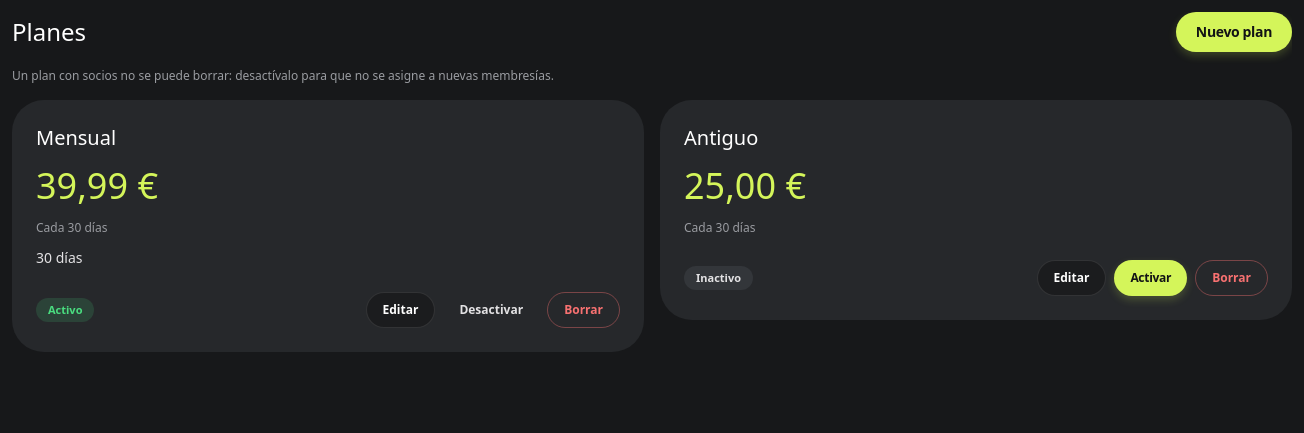
Test: PlansPage › muestra el aviso de la API si el plan tiene socios y no se puede borrar
This screenshot has width=1304, height=433.
expect the heading "Mensual" is shown: met, box [36,124,116,151]
Step 1. Click the 2nd button "Borrar" → (584, 310), box [547,292,620,328]
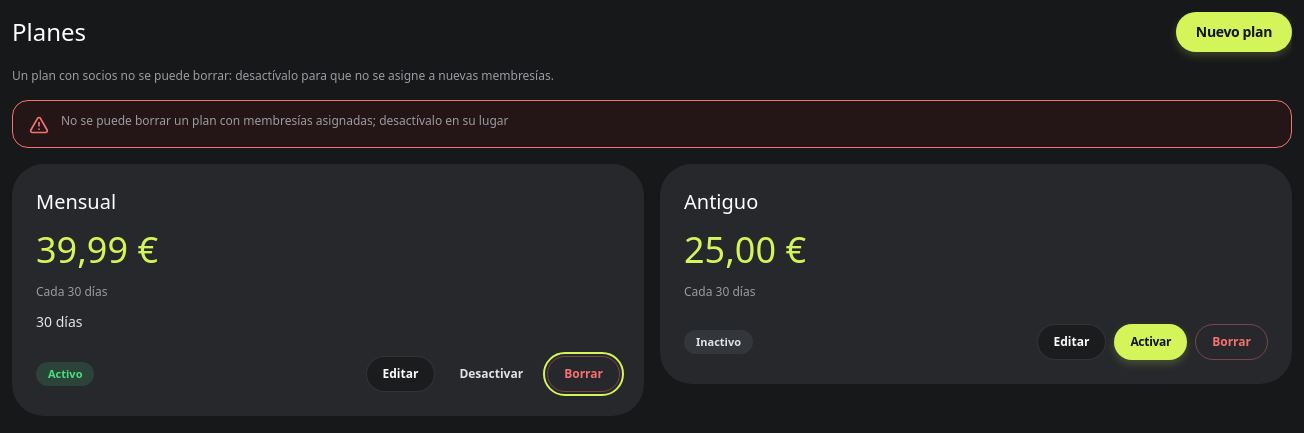
expect the message shows "desactívalo en su lugar": met, box [61,112,508,129]
